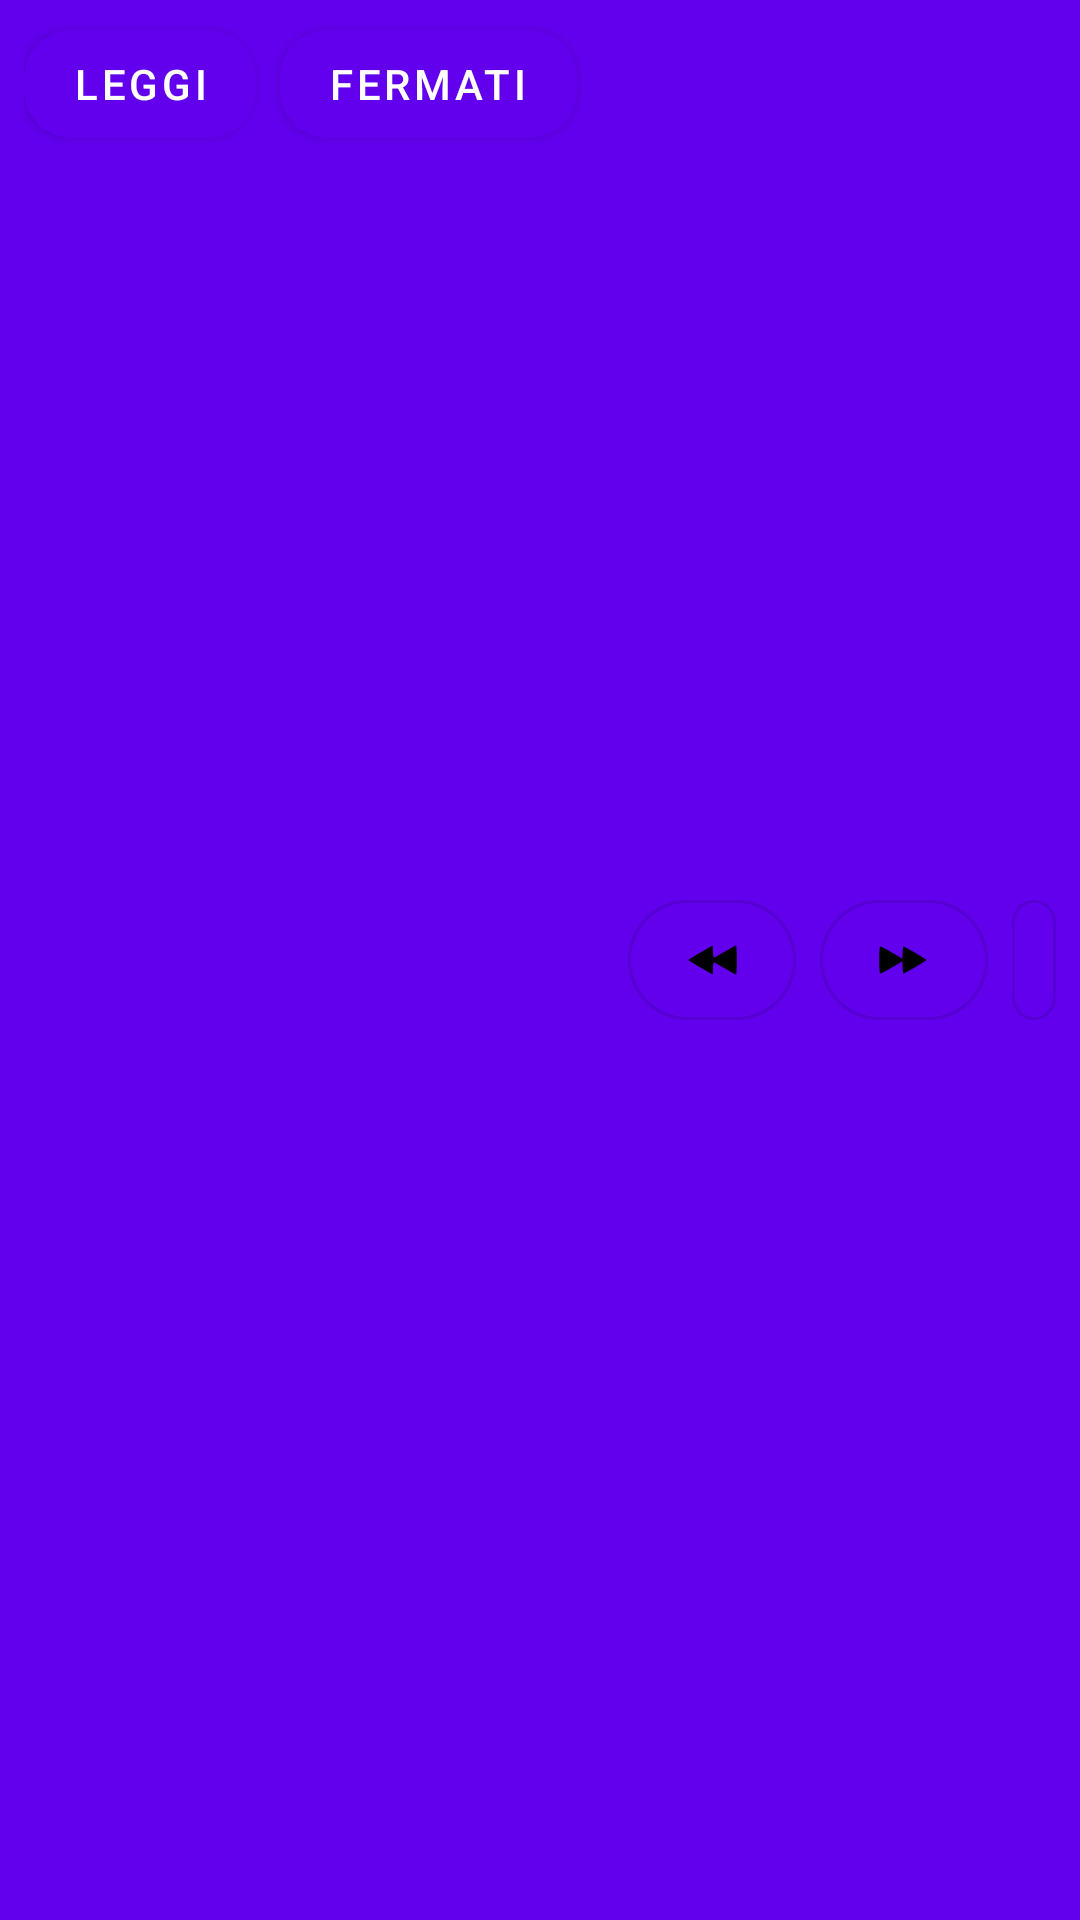

Named icons in this screenshot (1080 x 1920) and their centers, [x,y]:
Avanti: [904,960]
Indietro: [712,960]
